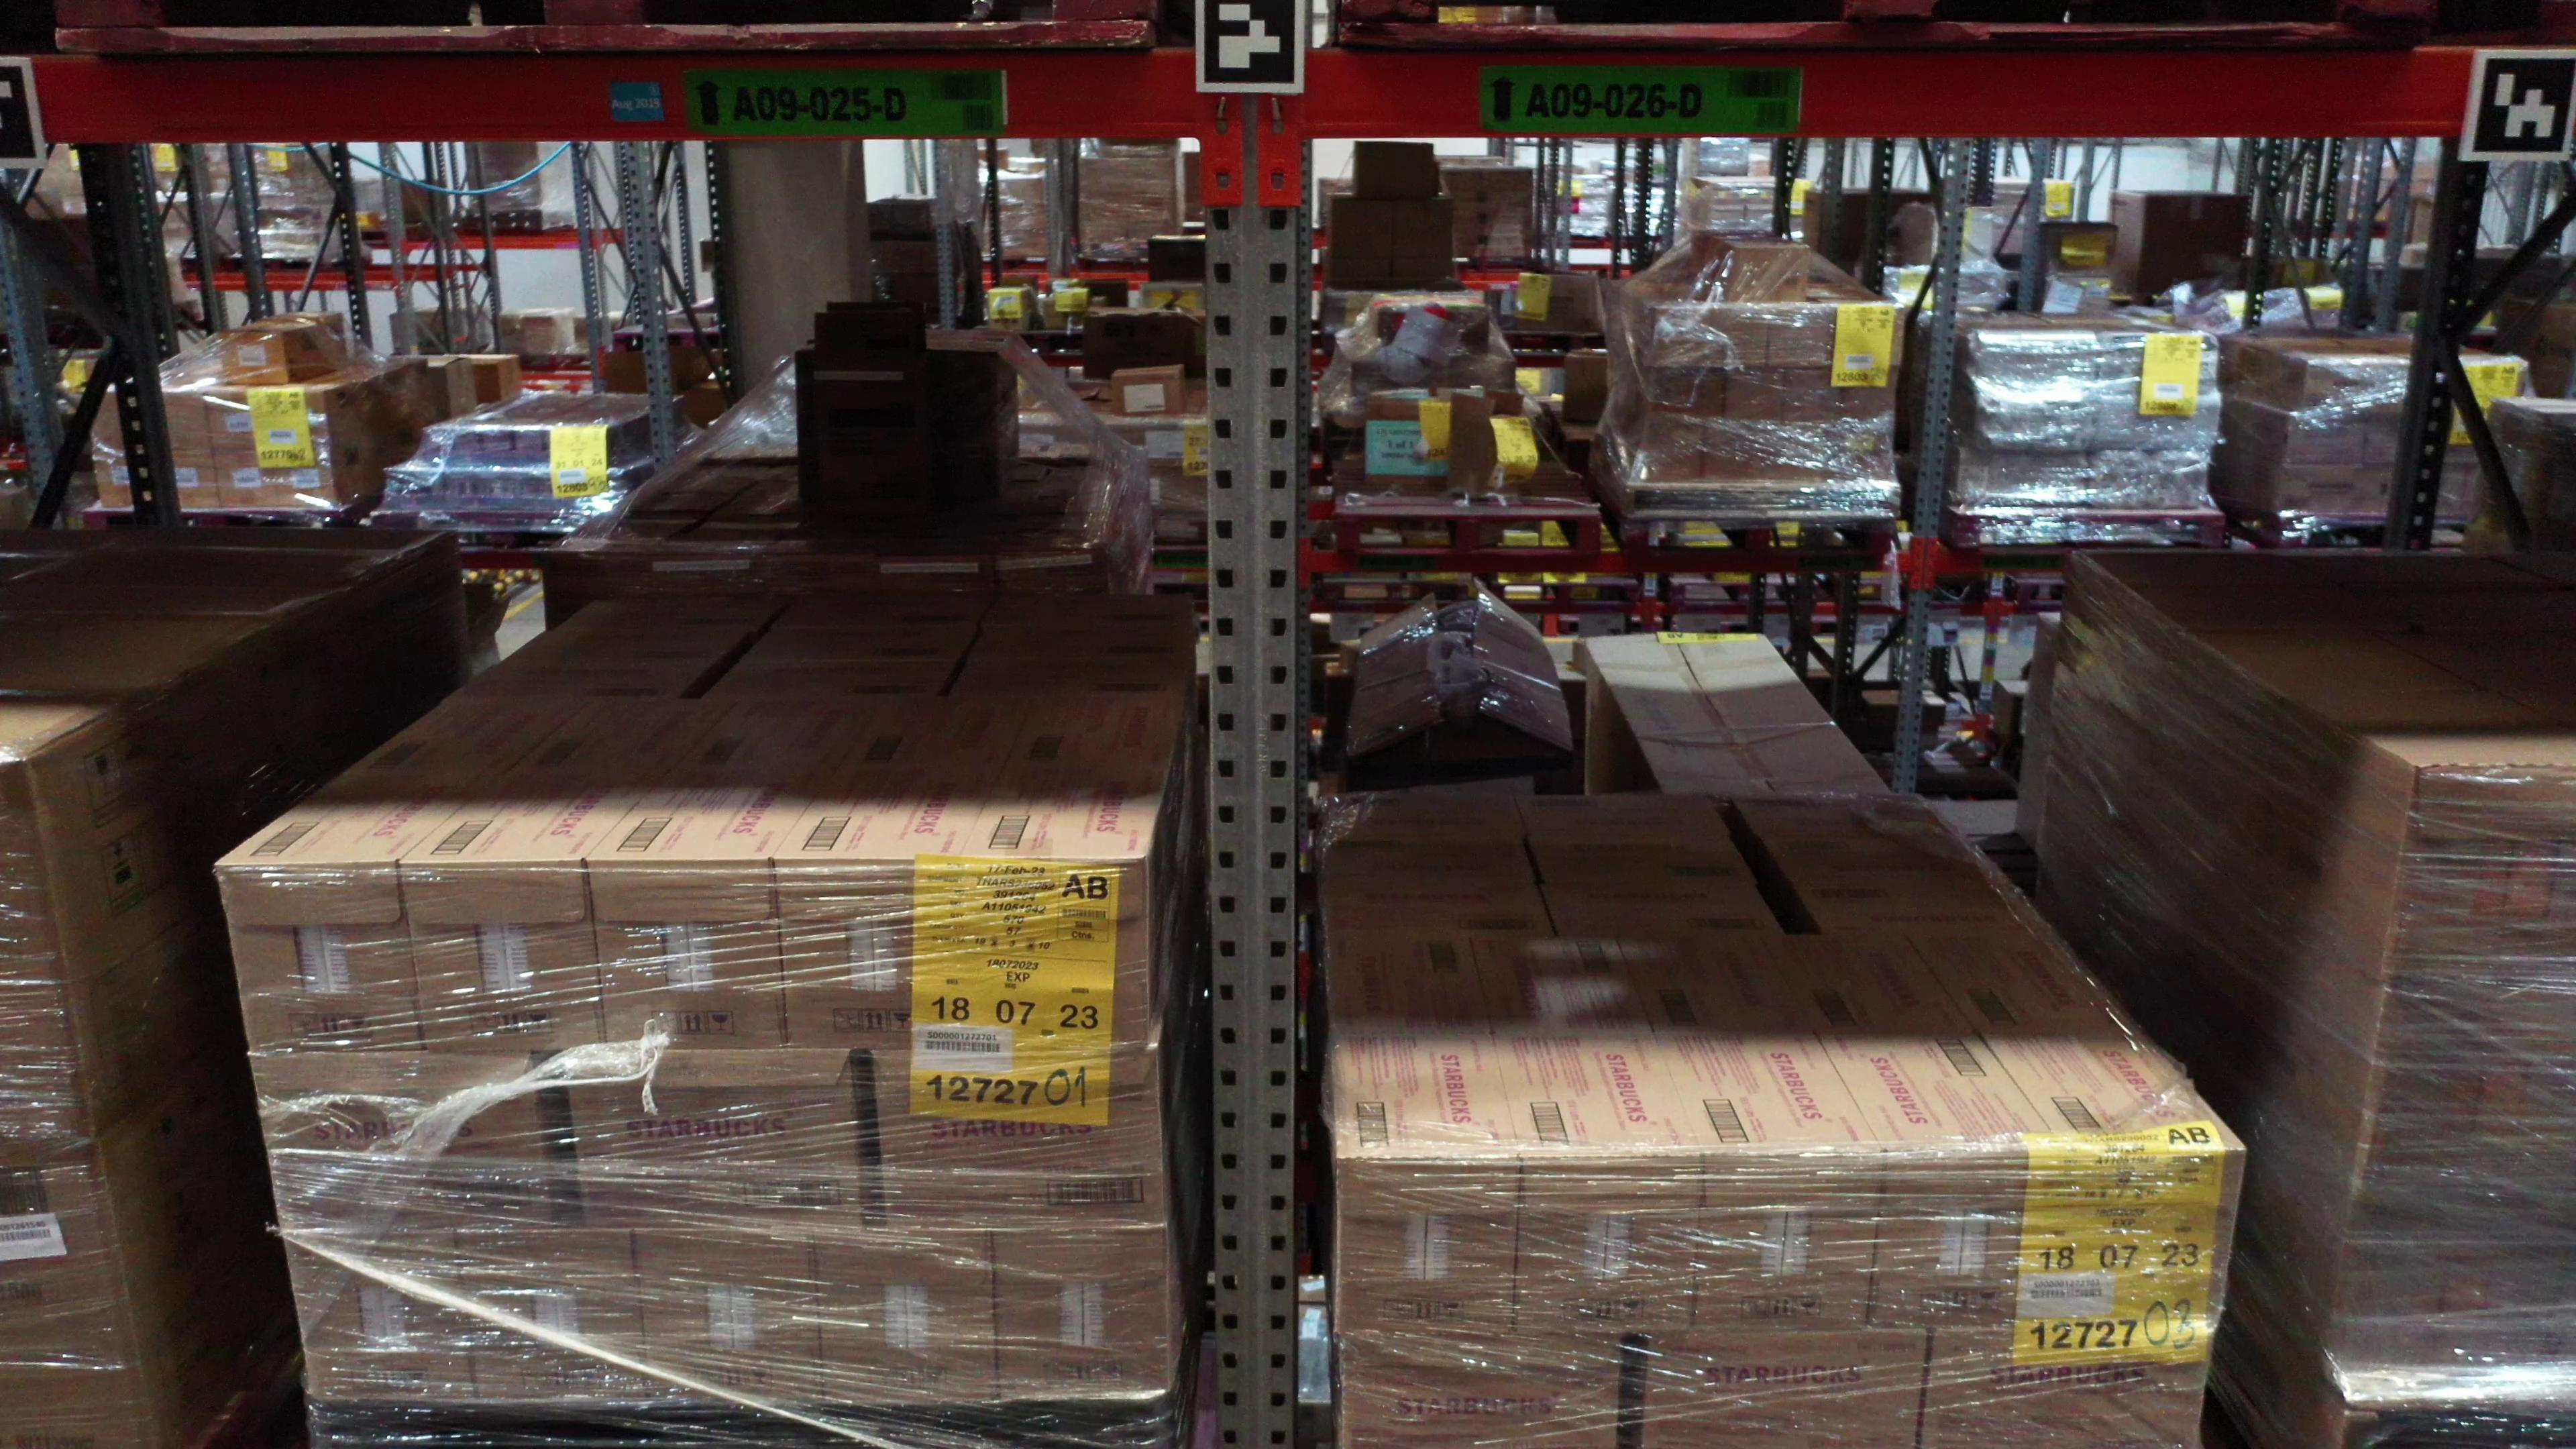-: (248, 1053, 559, 1231), (564, 1049, 863, 1233), (874, 1047, 1168, 1230), (2327, 1182, 2576, 1382), (2381, 764, 2576, 994), (0, 1155, 149, 1449), (2353, 991, 2576, 1180), (214, 860, 425, 1060), (403, 862, 610, 1058), (584, 860, 789, 1051), (773, 862, 978, 1051), (2043, 1145, 2247, 1330), (0, 757, 90, 1171), (1918, 1327, 2208, 1449), (966, 858, 1148, 1049), (1693, 1150, 1884, 1332), (1514, 1157, 1709, 1336), (1870, 1152, 2065, 1330), (1642, 1330, 1928, 1449), (1334, 1159, 1520, 1339), (281, 1231, 478, 1401), (1338, 1332, 1619, 1449), (637, 1231, 823, 1405), (816, 1231, 1000, 1405), (993, 1226, 1173, 1401), (462, 1230, 649, 1398)
